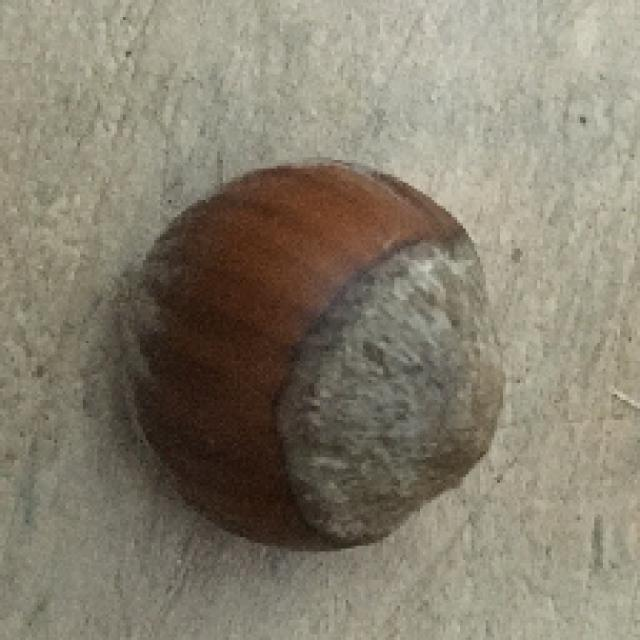qualityHazelnut: (108, 132, 507, 552)
